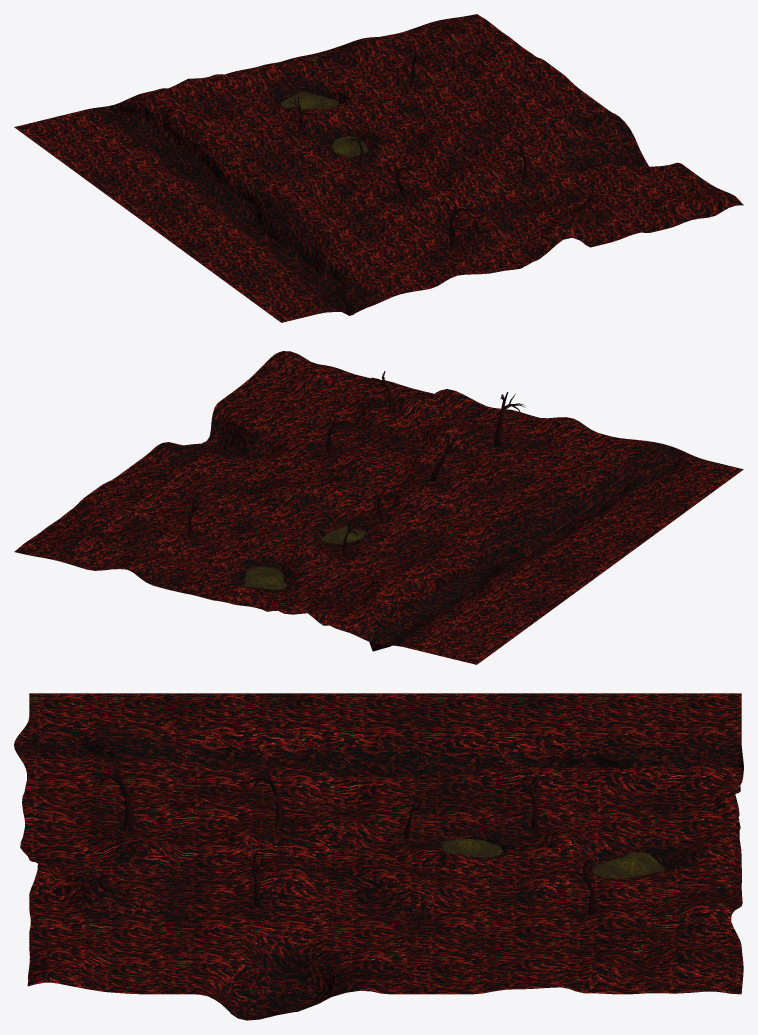
The picture shows the model from 3 angles, top to bottom: view 1: azimuth 30°, elevation 25°; view 2: azimuth 150°, elevation 25°; view 3: azimuth 270°, elevation 25°; orthographic projection. The views are drawn at different scales.
Parts seen in each view (by area): view 1: Grade-col, Cube-col, Plano.001; view 2: Grade-col, Cube-col, Plano.001; view 3: Grade-col, Cube-col, Plano.001.
Part boxes in pixels (box(x1,y1,x2,y2)): Grade-col: box(14, 14, 743, 322); Cube-col: box(285, 42, 605, 246); Plano.001: box(280, 91, 368, 157); Grade-col: box(14, 351, 743, 664); Cube-col: box(188, 371, 525, 556); Plano.001: box(244, 526, 366, 590); Grade-col: box(14, 693, 743, 1020); Cube-col: box(79, 751, 598, 913); Plano.001: box(442, 838, 664, 878).
Bounding box in the file's own units: 1078 × 174 × 1105.
3 materials, 3 textured.
